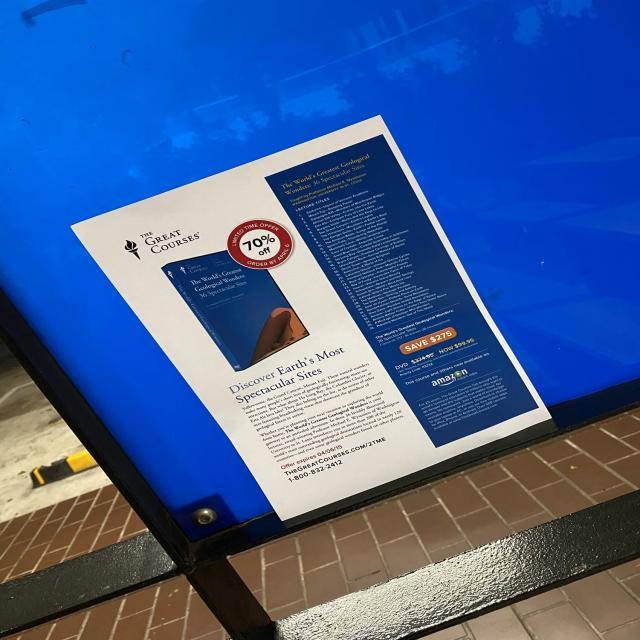document: (73, 116, 549, 520)
